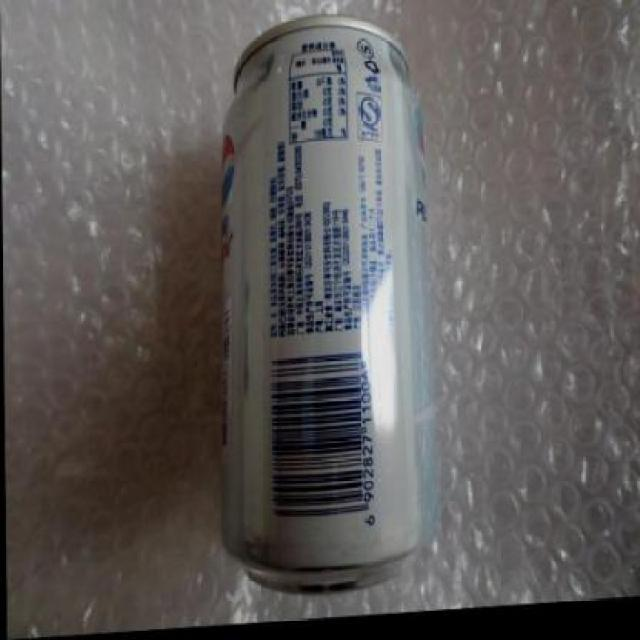Metal: (215, 14, 432, 602)
